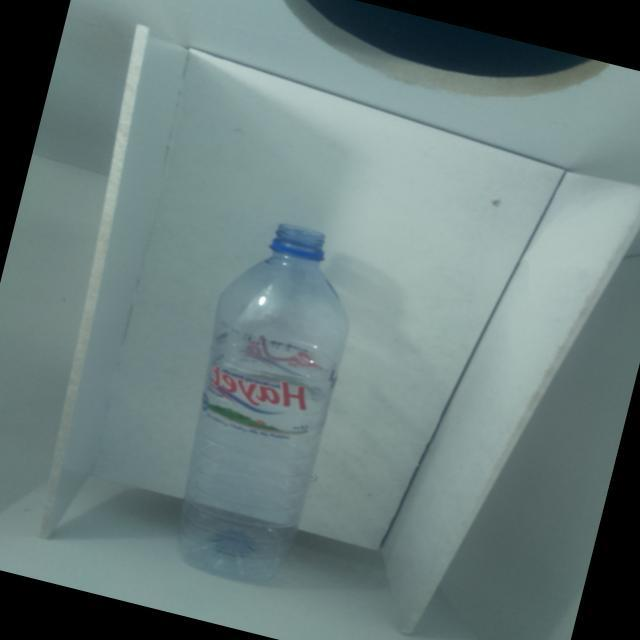good: (124, 195, 406, 612)
